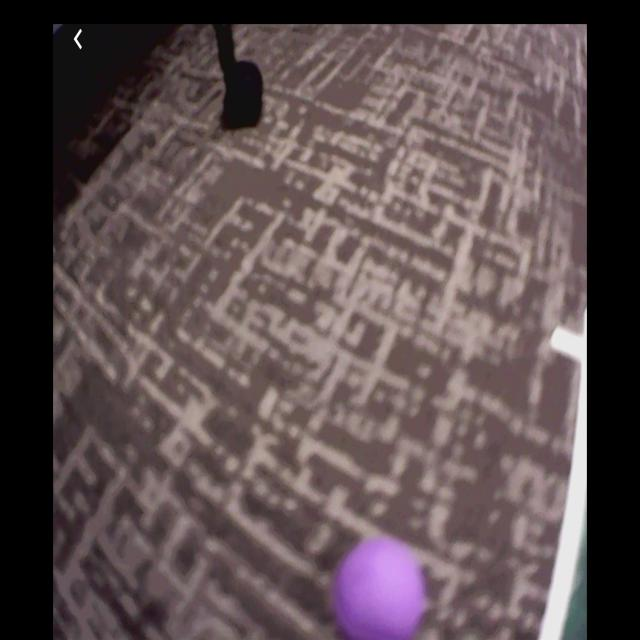ball: (331, 535, 429, 639)
